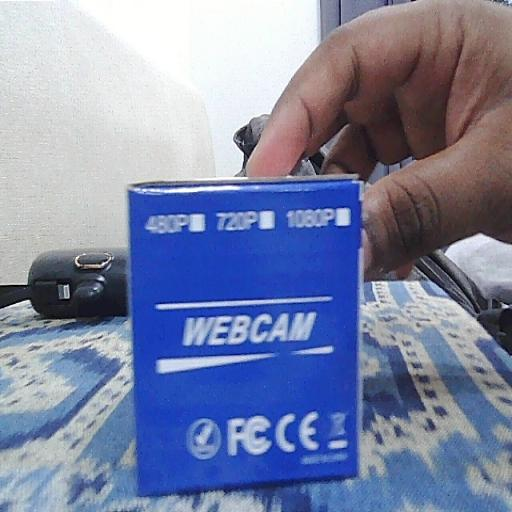webcam_box: (126, 175, 364, 498)
